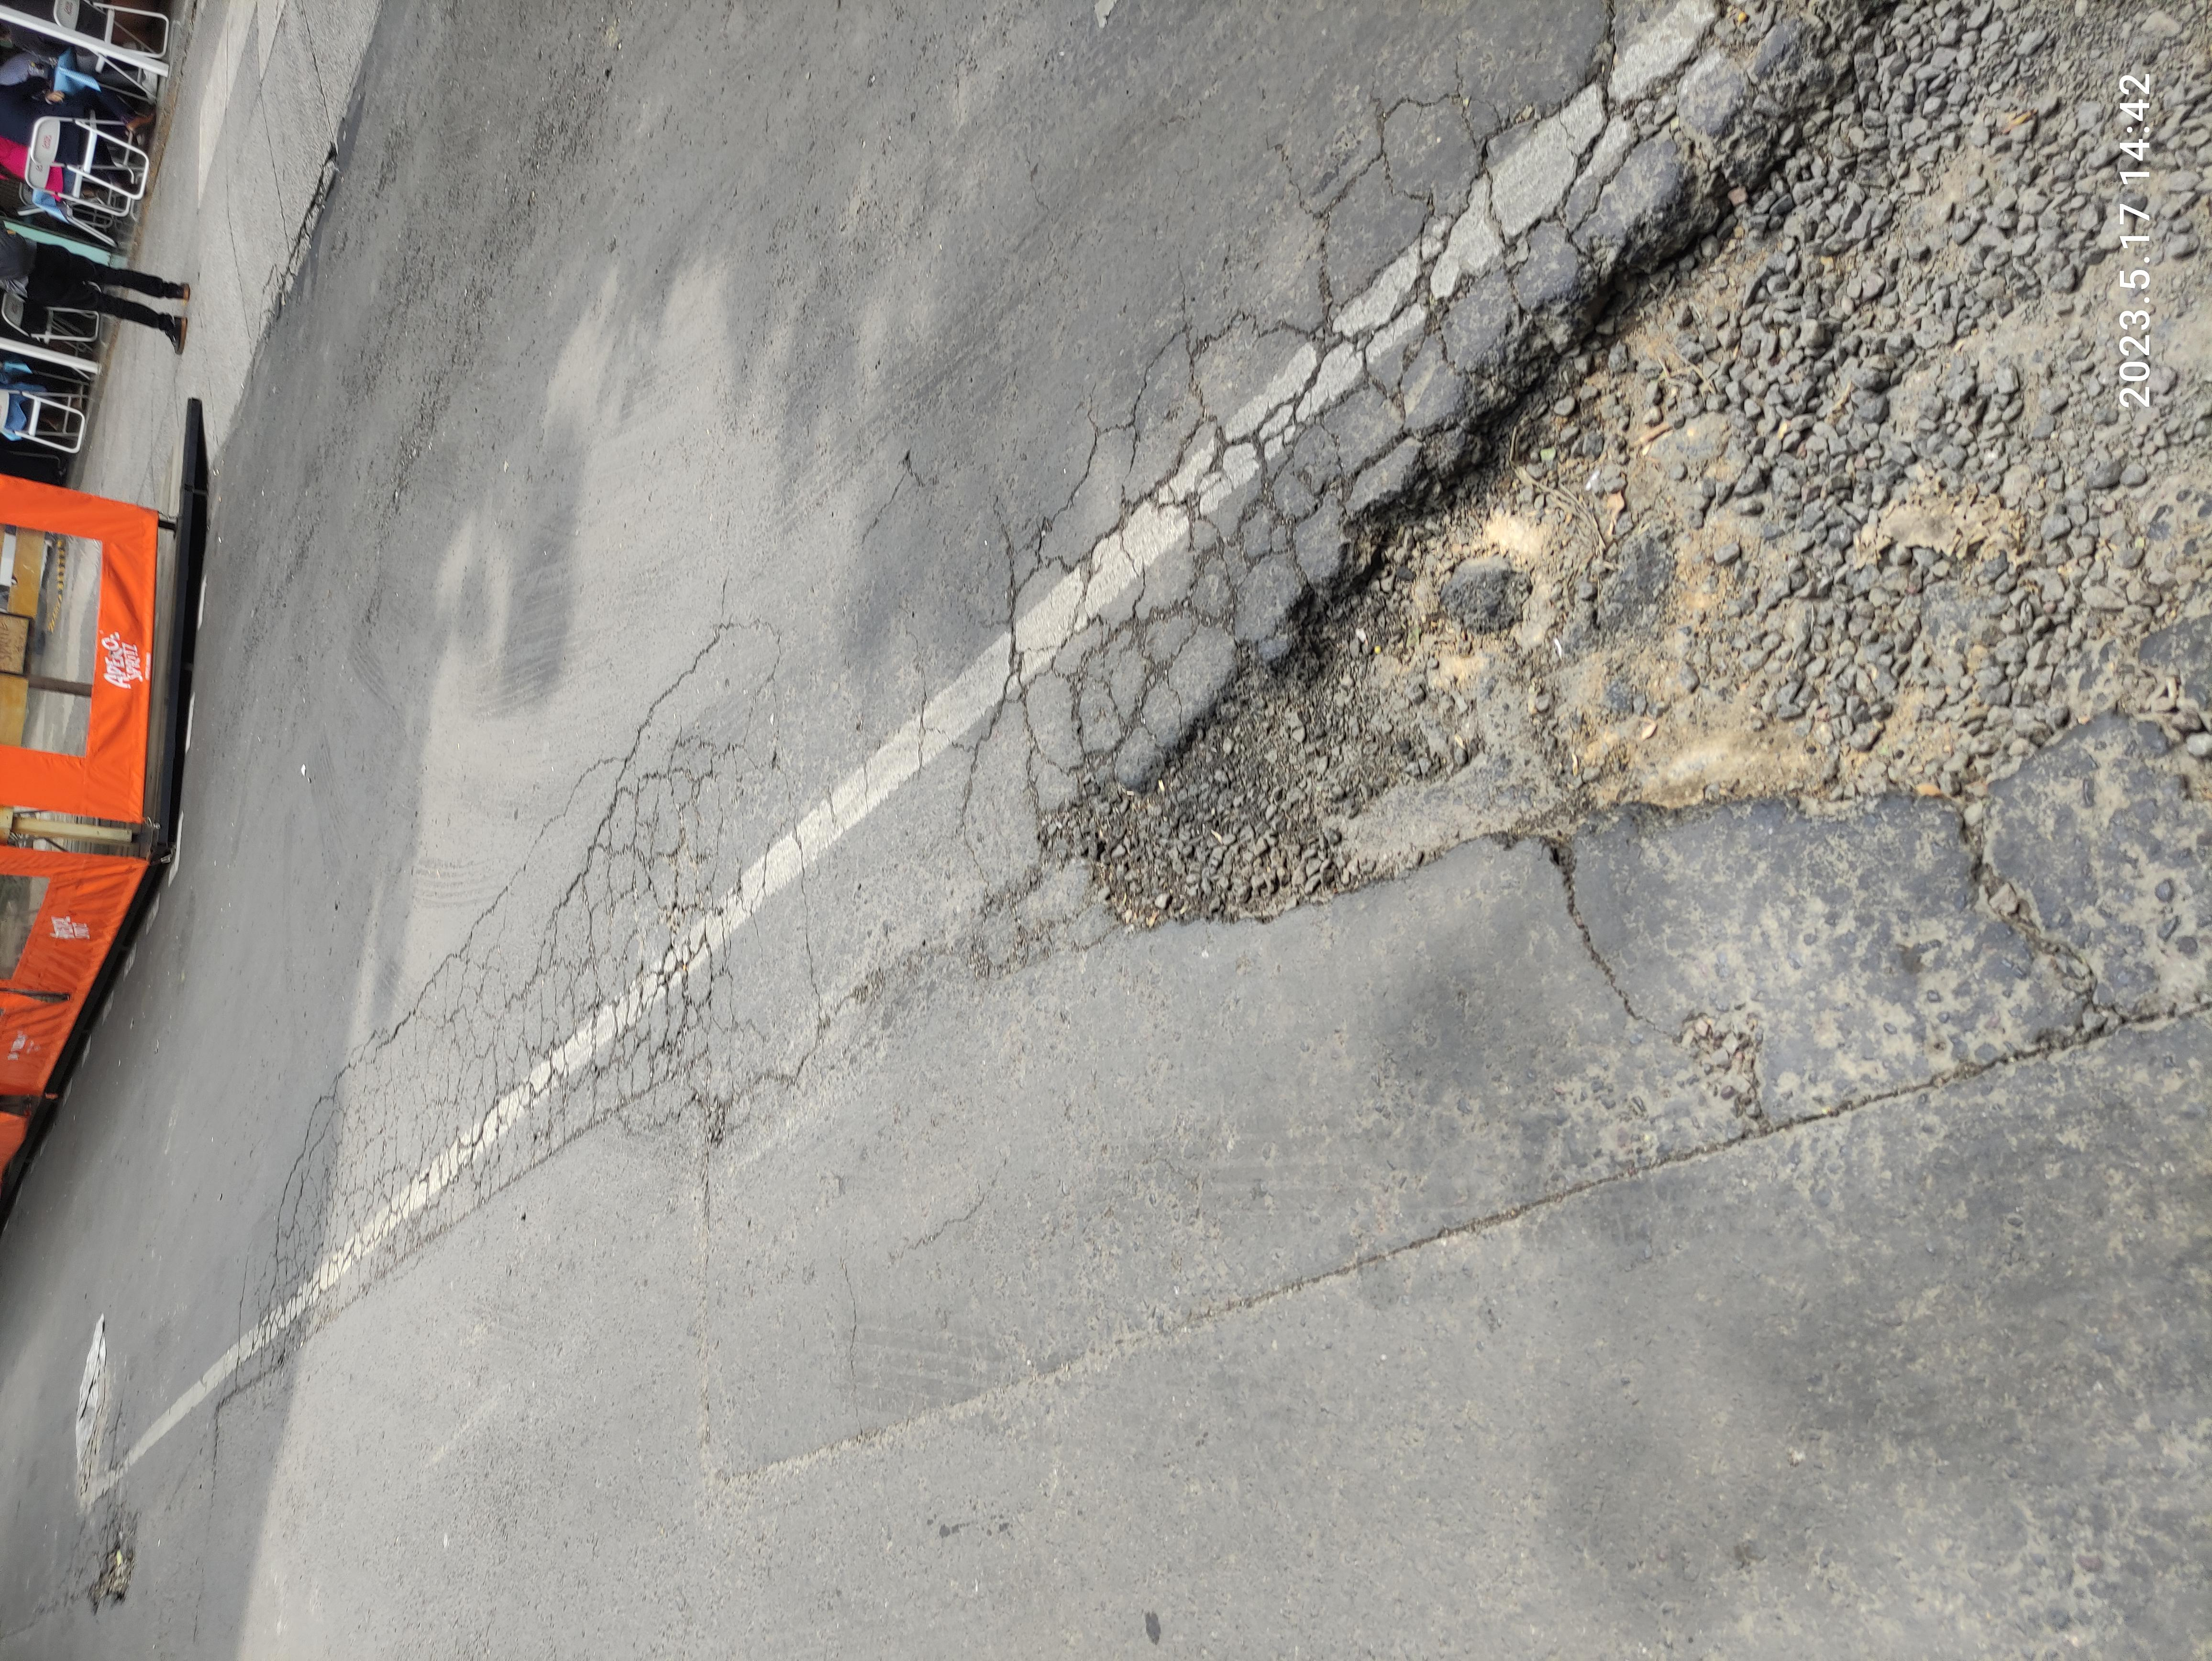alligator-crack: (635, 332, 1401, 579), (359, 171, 951, 328), (1526, 270, 1933, 387)
crack: (393, 844, 836, 1607), (237, 546, 429, 813), (188, 150, 358, 171)
pothole: (902, 790, 2212, 1661), (63, 65, 209, 103)
